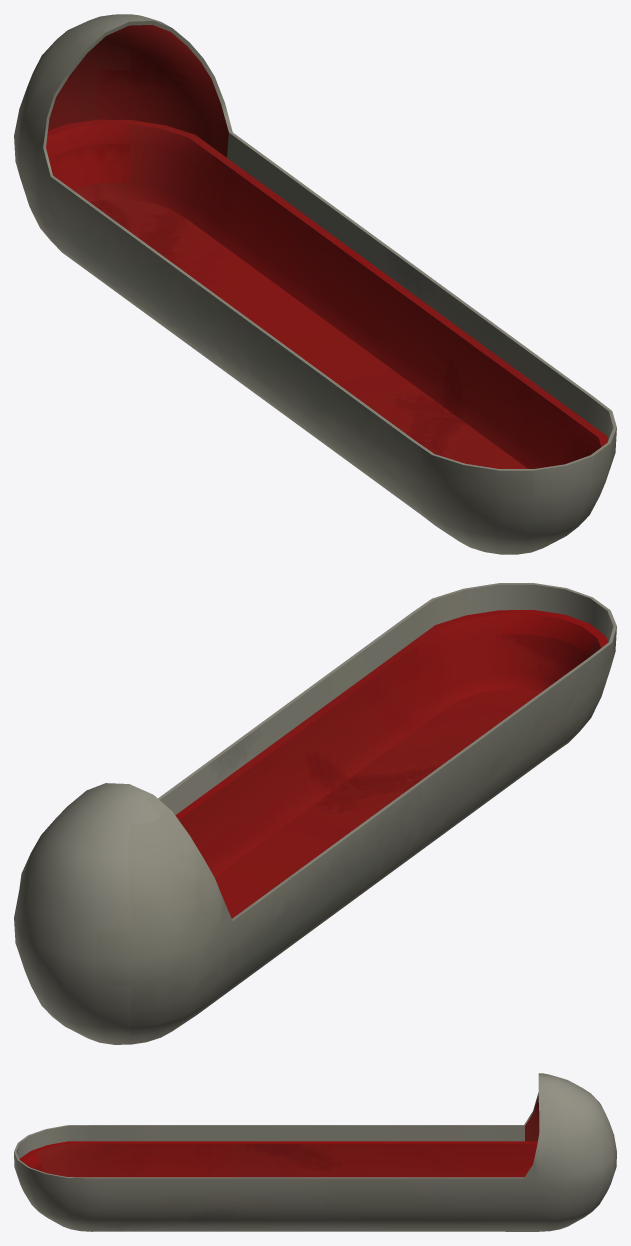
Rendered from Bed.fbx.
3 renders of one model, top to bottom at view 1: azimuth 30°, elevation 25°; view 2: azimuth 150°, elevation 25°; view 3: azimuth 270°, elevation 25°, orthographic. The views are drawn at different scales.
Visible parts, largest first — view 1: bed:tukue:polySurface4; view 2: bed:tukue:polySurface4; view 3: bed:tukue:polySurface4.
Boxes of the visible parts, box(x1,y1,x2,y2) form: bed:tukue:polySurface4: box(14, 14, 616, 554); bed:tukue:polySurface4: box(14, 583, 616, 1044); bed:tukue:polySurface4: box(14, 1073, 616, 1231).
Size of the model in its own units: 25.41 by 33.1 by 121.
Materials: 1 (1 with a texture image).
